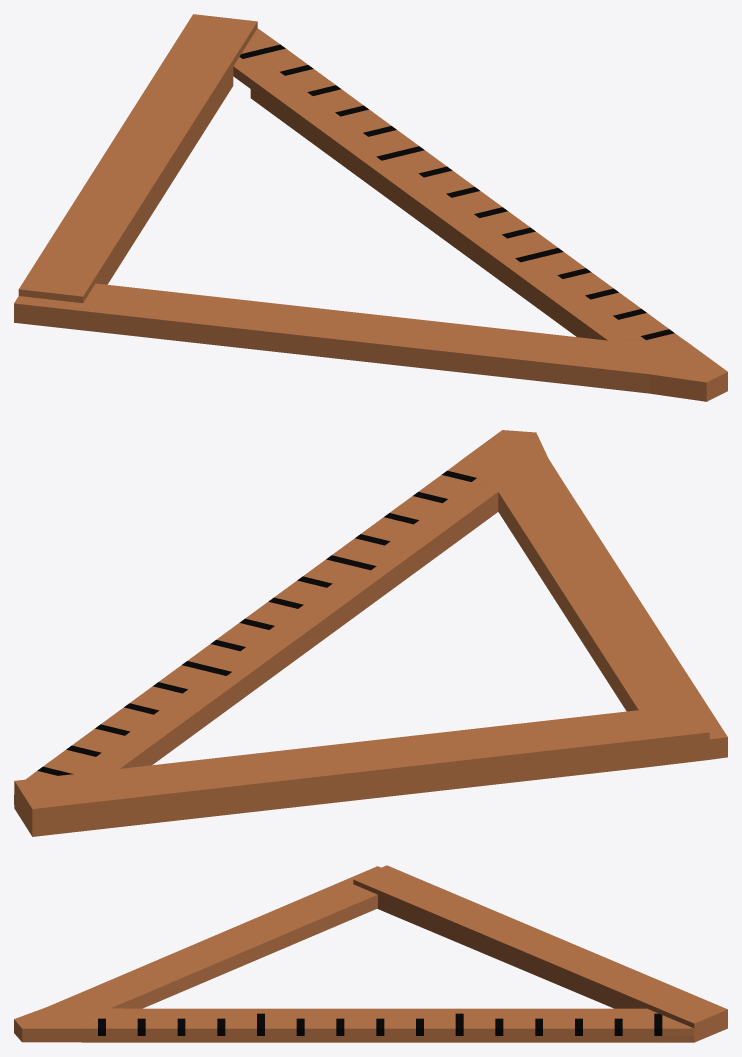
The model's file is ruler02.gltf.
The picture shows the model from 3 angles, top to bottom: view 1: azimuth 30°, elevation 25°; view 2: azimuth 150°, elevation 25°; view 3: azimuth 270°, elevation 25°; orthographic projection. The views are drawn at different scales.
Parts seen in each view (by area): view 1: Cube; view 2: Cube; view 3: Cube.
Part boxes in pixels (left/top/right/bottom): Cube: left=14, top=14, right=727, bottom=401; Cube: left=14, top=430, right=727, bottom=836; Cube: left=14, top=865, right=727, bottom=1042.
Size of the model in its own units: 0.0968 by 0.00532 by 0.1797.
1 material, 1 textured.
